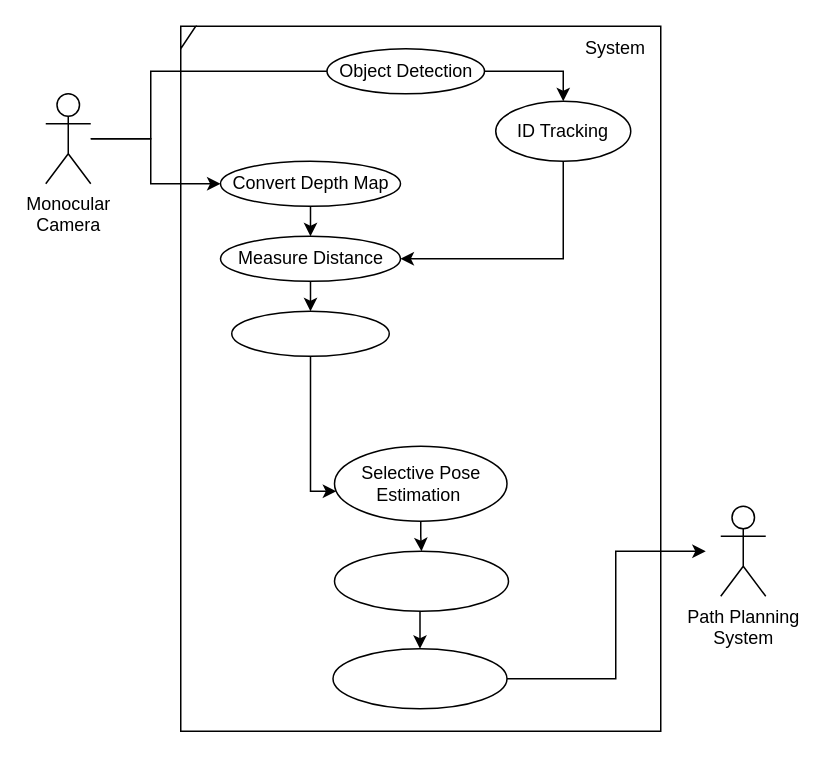
The diagram is 825 pixels wide and 758 high, and some of its shapes have lost their labels. Here are the shapes that lost their labels. From the top down, the centre of each, then its label:
point 309,333: Classify Priority
point 420,580: Predict Trajectory
point 419,678: Evaluate Risk
